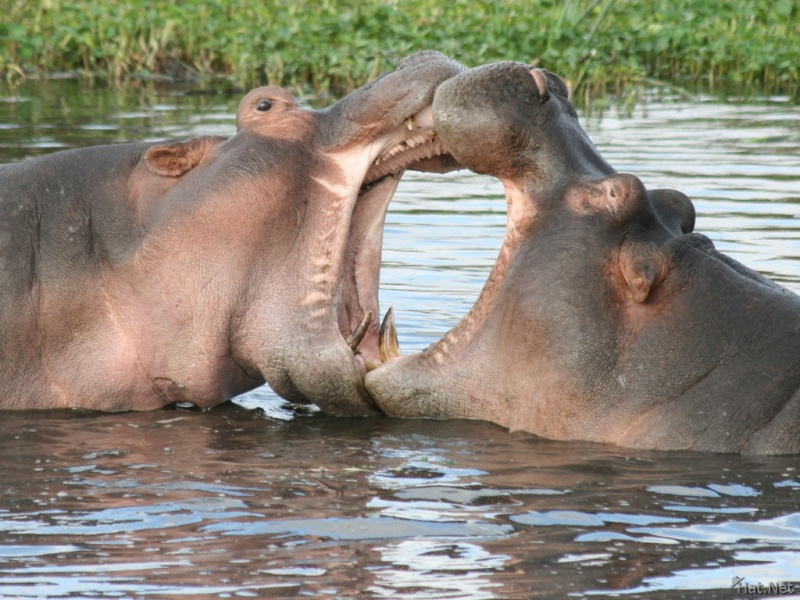hipopotamo: (0, 46, 468, 437), (388, 58, 800, 467)
